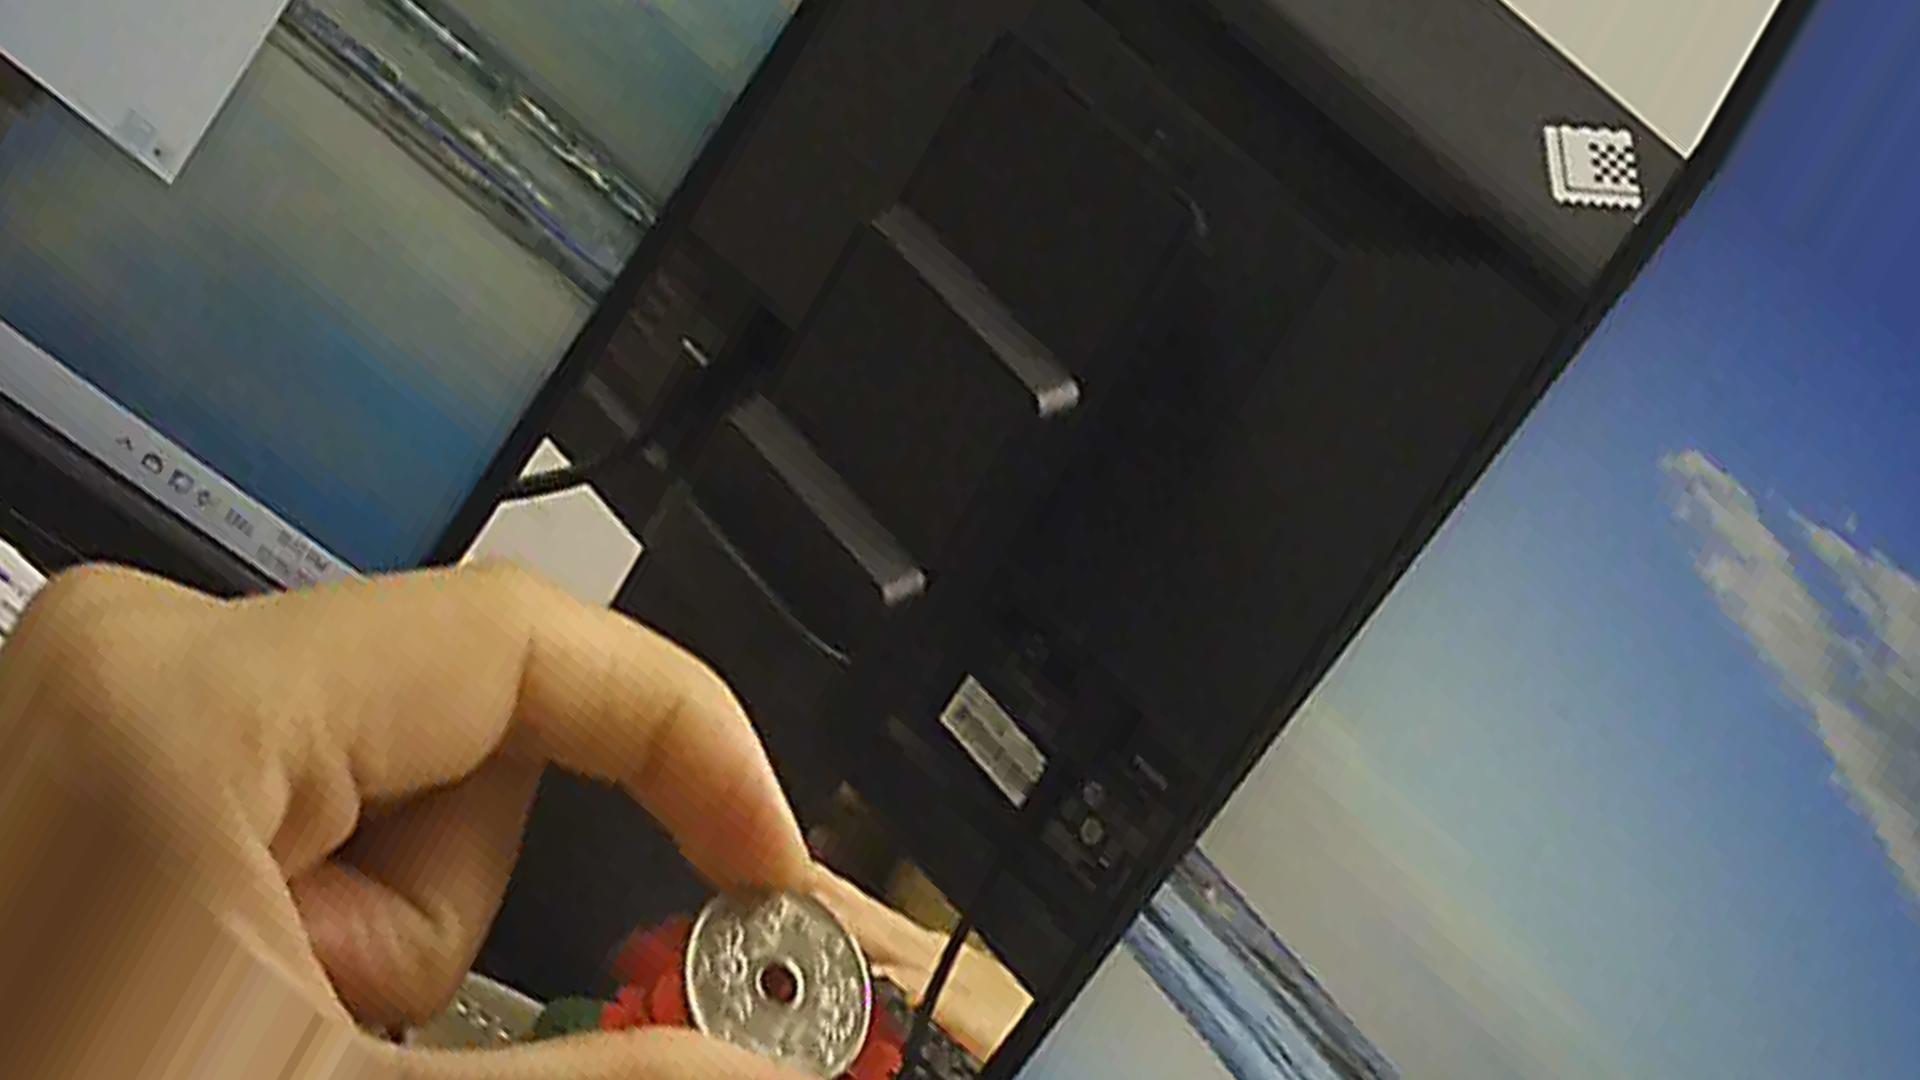50 Yen: (676, 872, 874, 1079)
